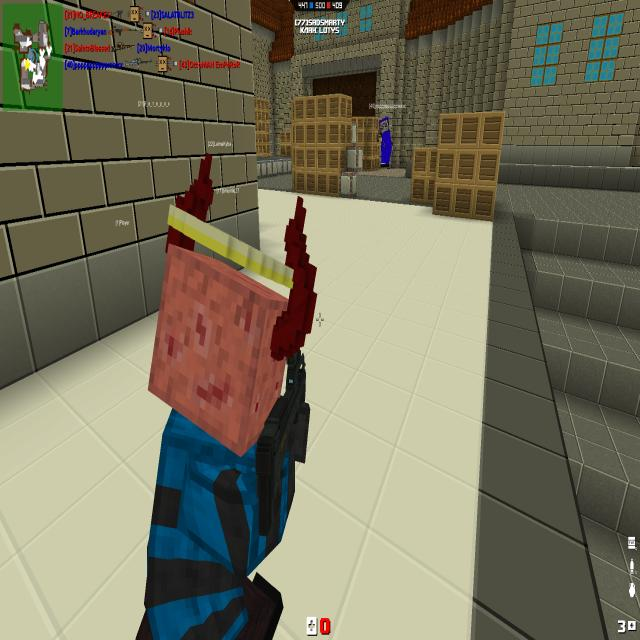player: (130, 183, 312, 636), (377, 115, 392, 168)
